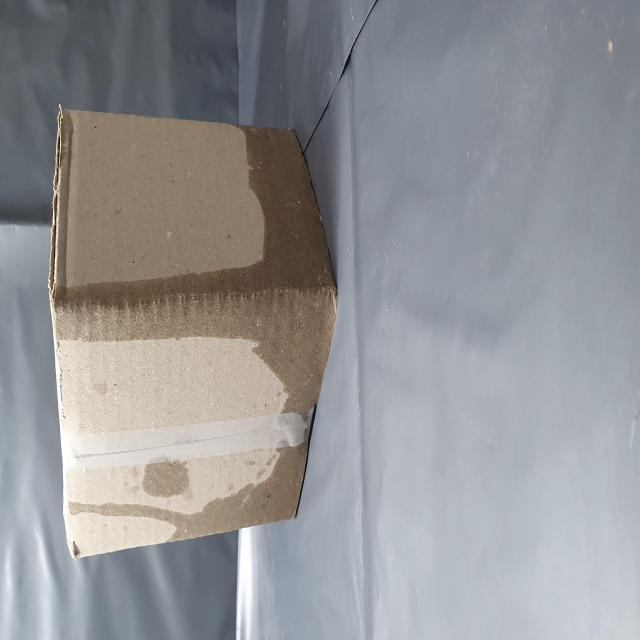wet: (48, 121, 306, 611)
